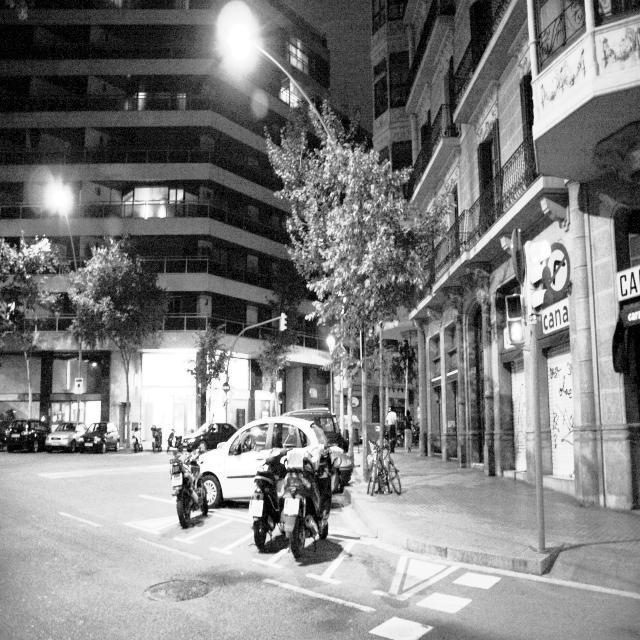Bicycle: (359, 418, 412, 505)
Car: (178, 406, 347, 522), (80, 414, 126, 472), (50, 407, 90, 457), (8, 407, 46, 453)
Motorcycle: (274, 435, 354, 567), (228, 433, 296, 542), (165, 417, 214, 529)
